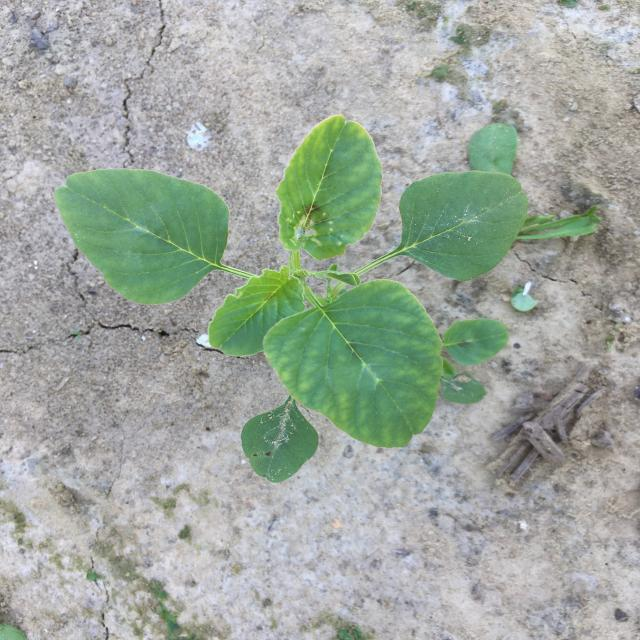PalmerAmaranth: (54, 114, 530, 483)
